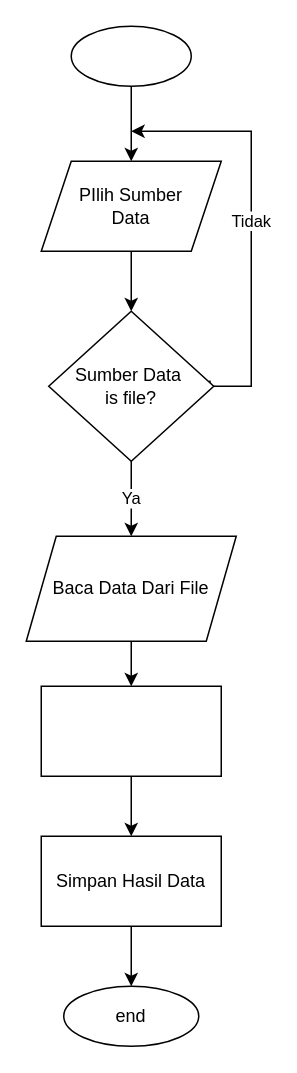
This 297x1073 diagram has some shape labels left out. Each missing label, with the box of its shape:
Proses Data: (40, 685, 221, 776)
start: (70, 25, 191, 86)
